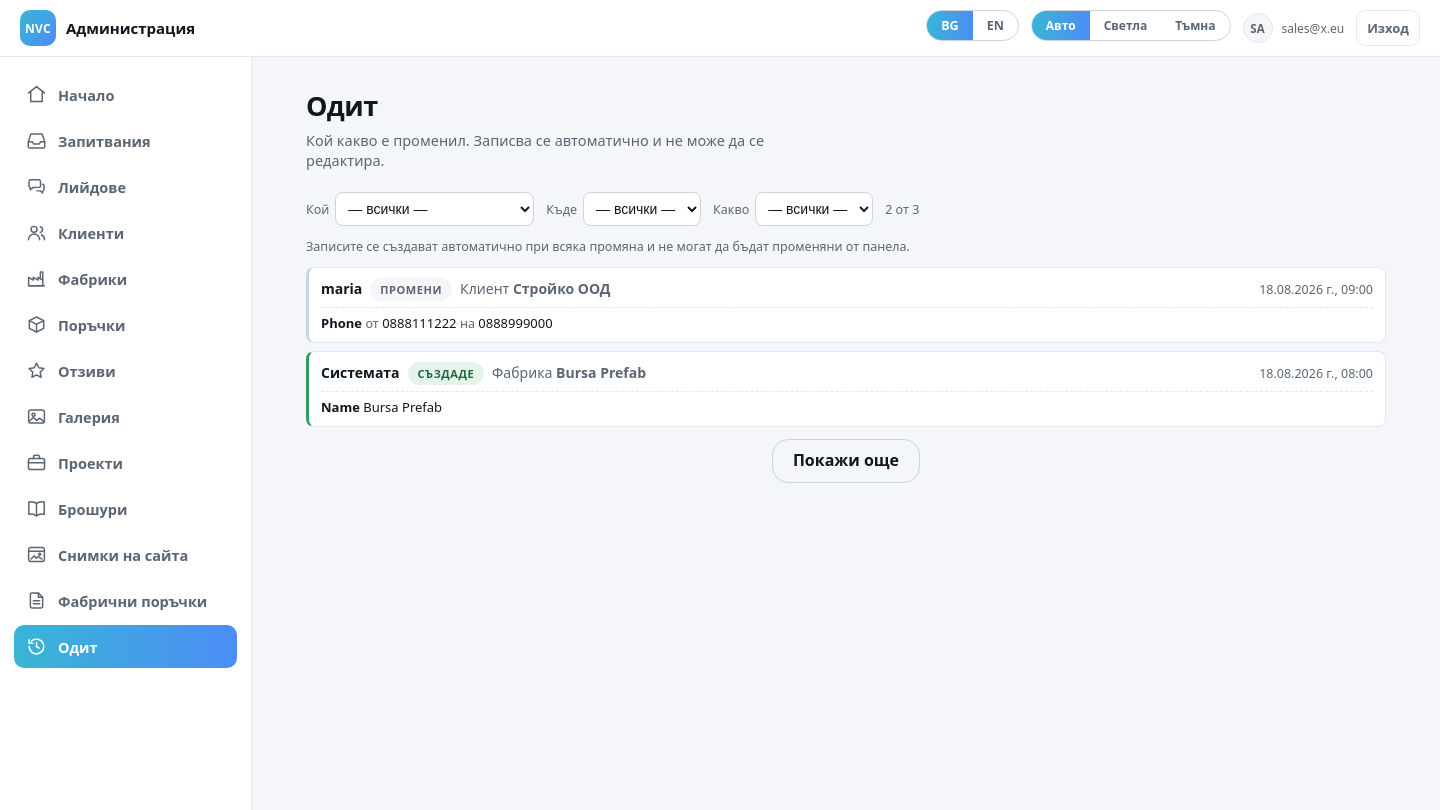
Test: AdminAuditPage › paging appends rather than replacing what is on screen
The image size is (1440, 810).
Expected: the text "Name" is shown, x1=321 y1=398 x2=360 y2=416
Click the button "Покажи още": (846,461) x1=772 y1=439 x2=920 y2=483
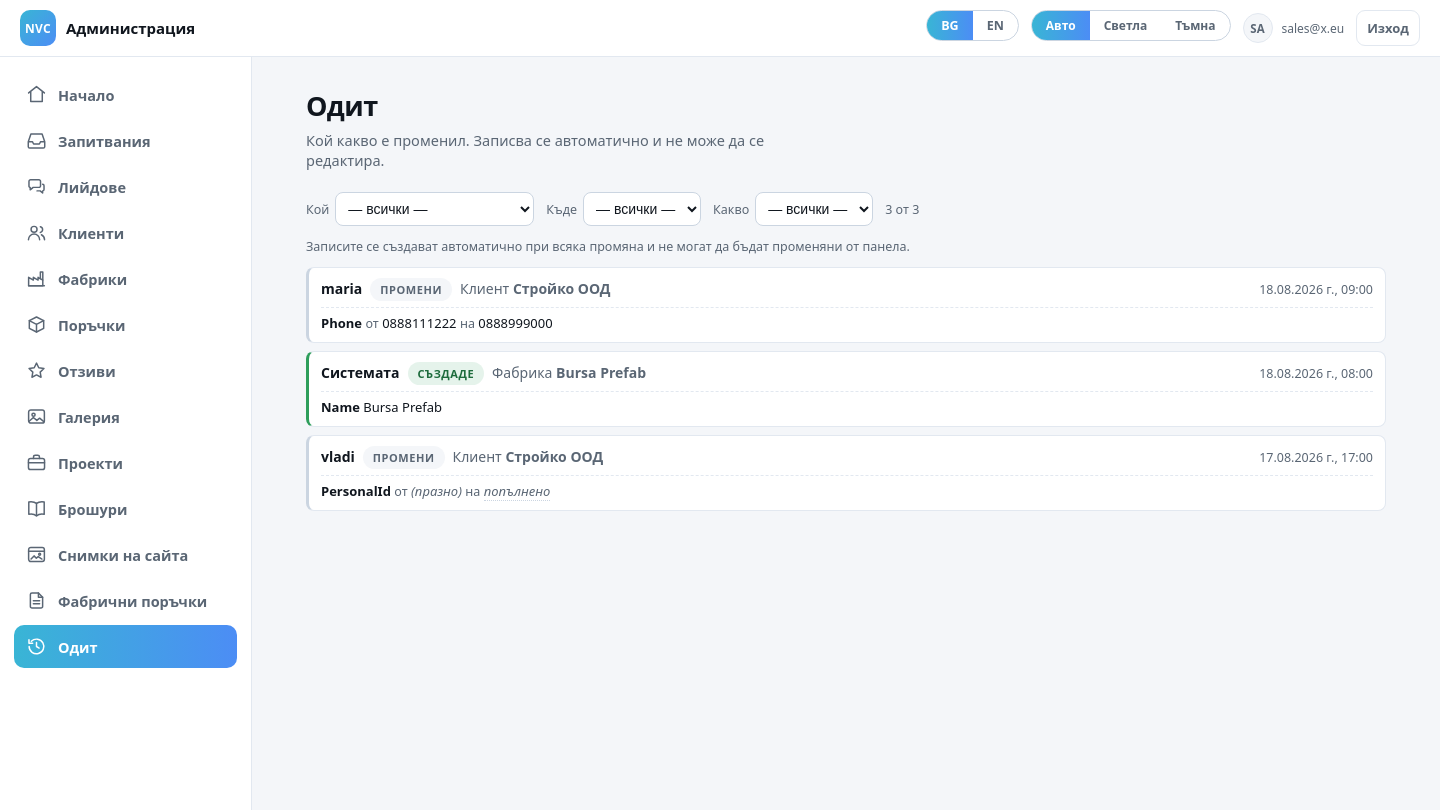
Expected: the text "Name" is shown, x1=321 y1=398 x2=360 y2=416
Now the text "PersonalId" is shown, box x1=321 y1=482 x2=391 y2=500
